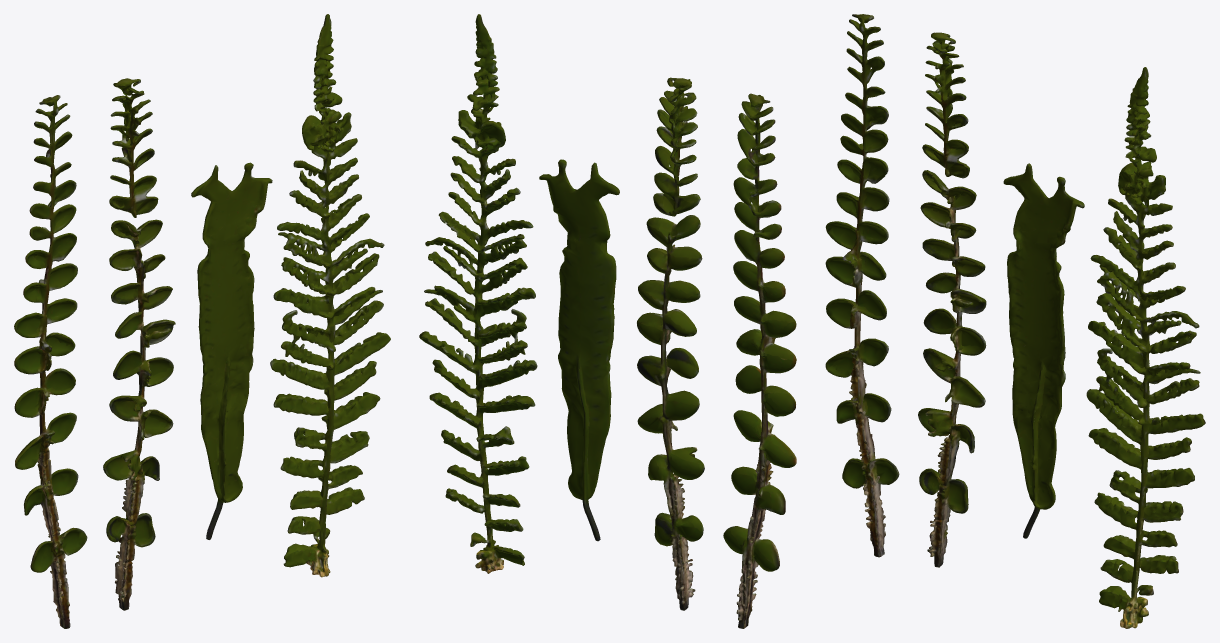
Rendered from creek-fern.glb.
3 renders of one model, left to right at view 1: azimuth 30°, elevation 25°; view 2: azimuth 150°, elevation 25°; view 3: azimuth 330°, elevation 25°, orthographic.
Parts seen in each view (by area): view 1: geometry_0; view 2: geometry_0; view 3: geometry_0.
Part boxes in pixels (x1,y1,x2,y2): geometry_0: (14, 14, 390, 628); geometry_0: (419, 14, 796, 628); geometry_0: (825, 14, 1205, 628).
Size of the model in its own units: 0.2129 by 0.2999 by 0.0177.
Materials: 1 (1 with a texture image).
